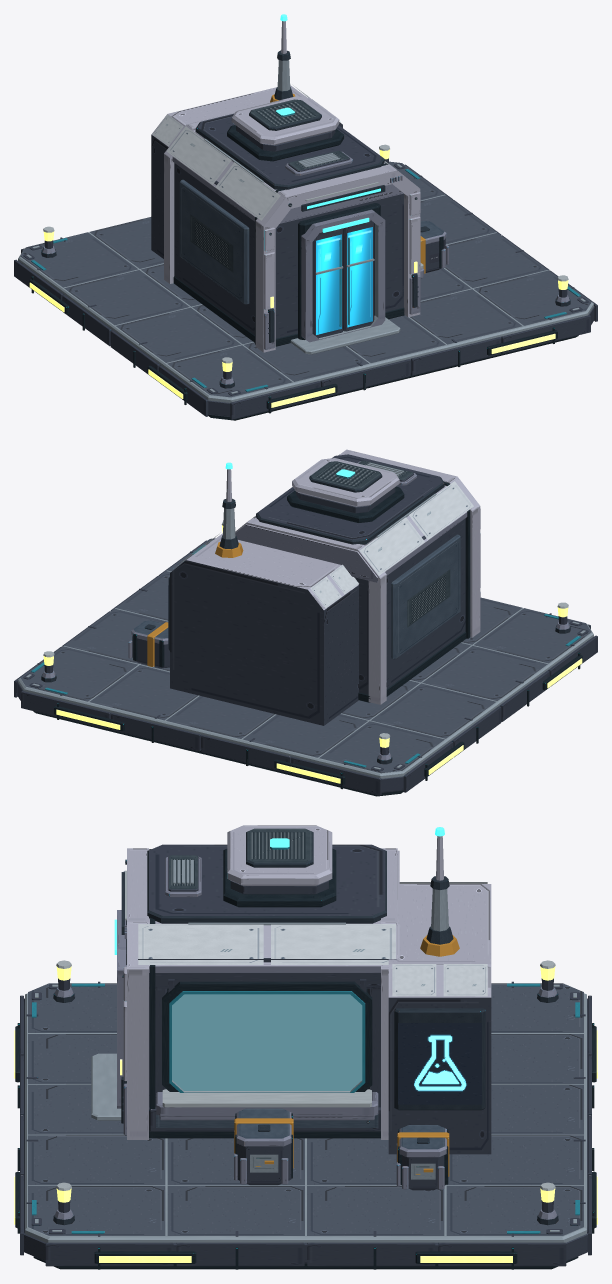
Rendered from LB01_LaboratorioBasico.fbx.
3 renders of one model, top to bottom at view 1: azimuth 30°, elevation 25°; view 2: azimuth 150°, elevation 25°; view 3: azimuth 270°, elevation 25°, orthographic. The views are drawn at different scales.
Parts seen in each view (by area): view 1: Estructura_1; view 2: Estructura_1; view 3: Estructura_1, Vidrios_1.
Boxes of the visible parts, box(x1,y1,x2,y2) form: Estructura_1: box(14, 14, 597, 420); Estructura_1: box(14, 449, 597, 796); Estructura_1: box(14, 825, 597, 1269); Vidrios_1: box(172, 994, 362, 1090).
Bounding box in the file's own units: 5.98 × 3.54 × 5.58.
